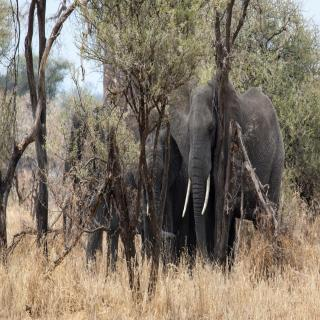Elephant: (170, 70, 294, 276)
